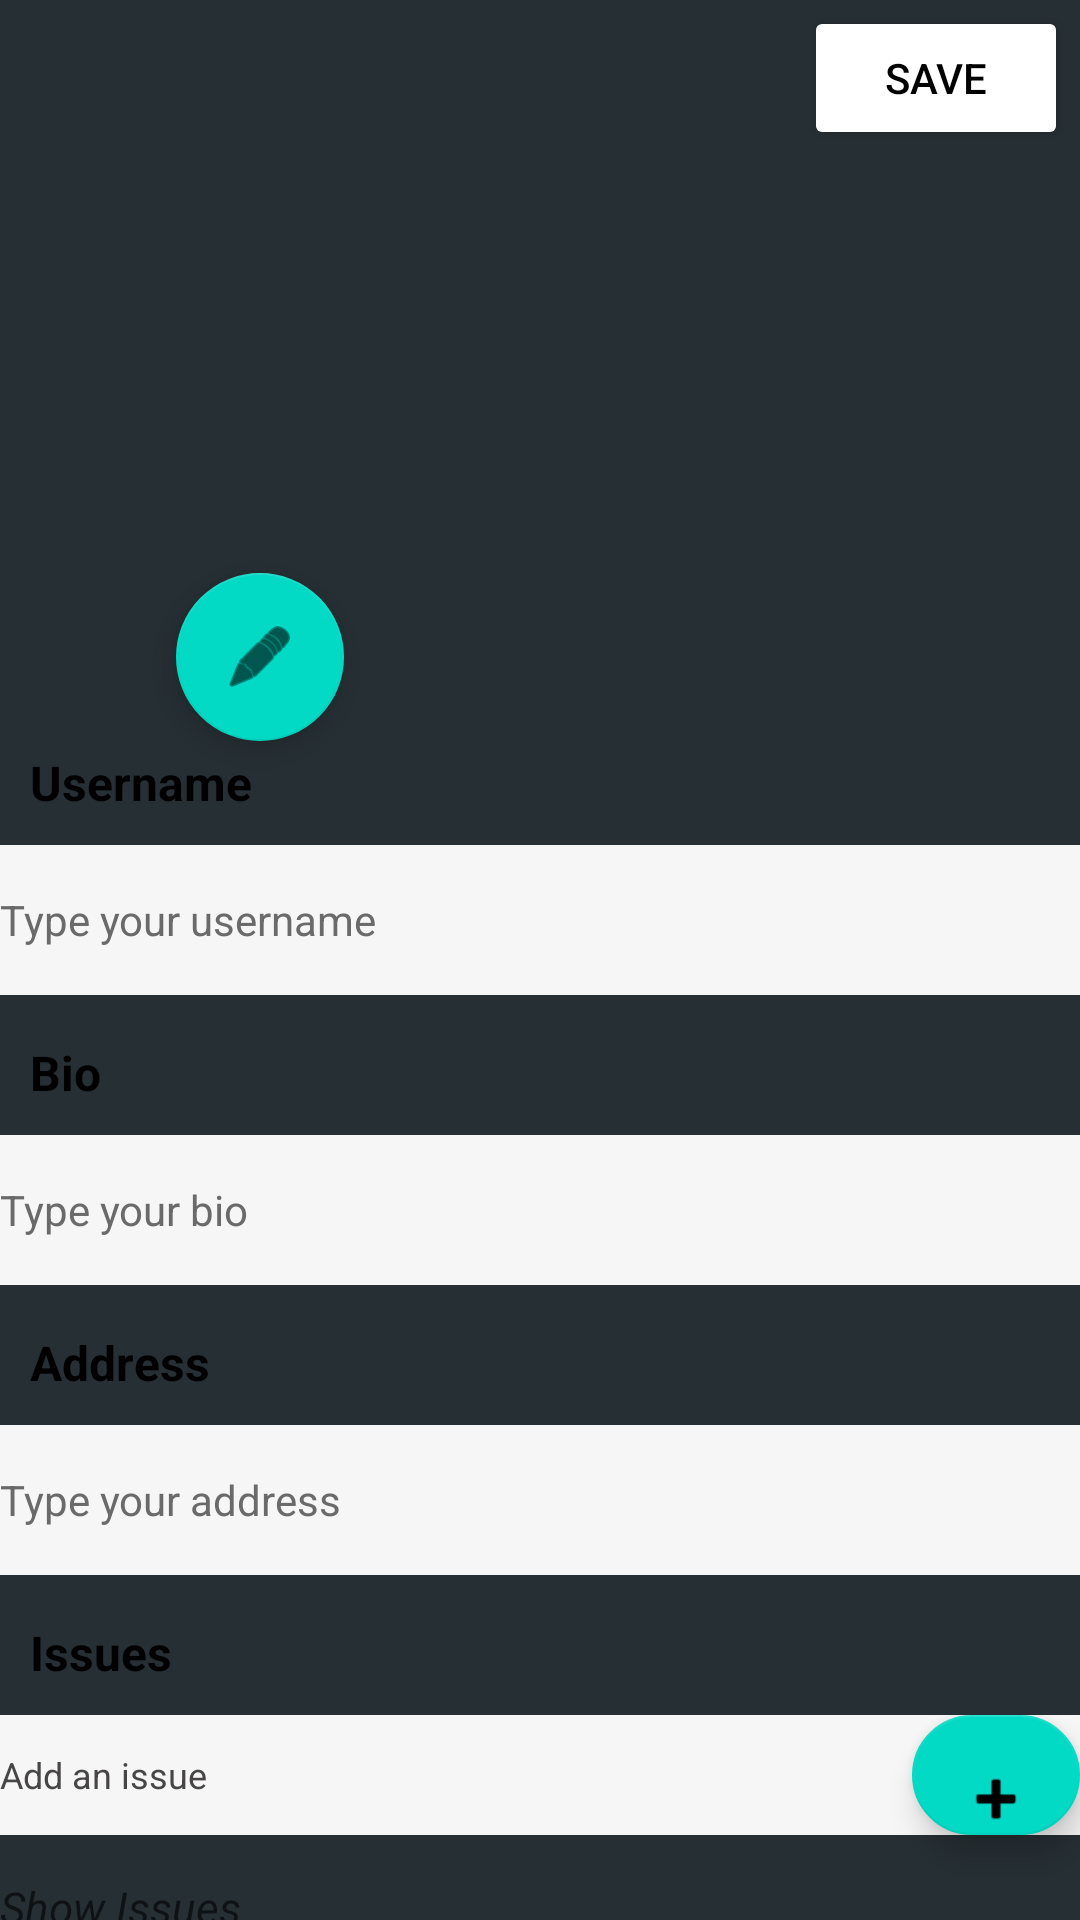

Icon bounding boxes for this 1080 x 1920 phone screenshot, format [x1=x1, y1=y1, x2=x2, y2=y2]:
edit: [x1=176, y1=573, x2=344, y2=741]
